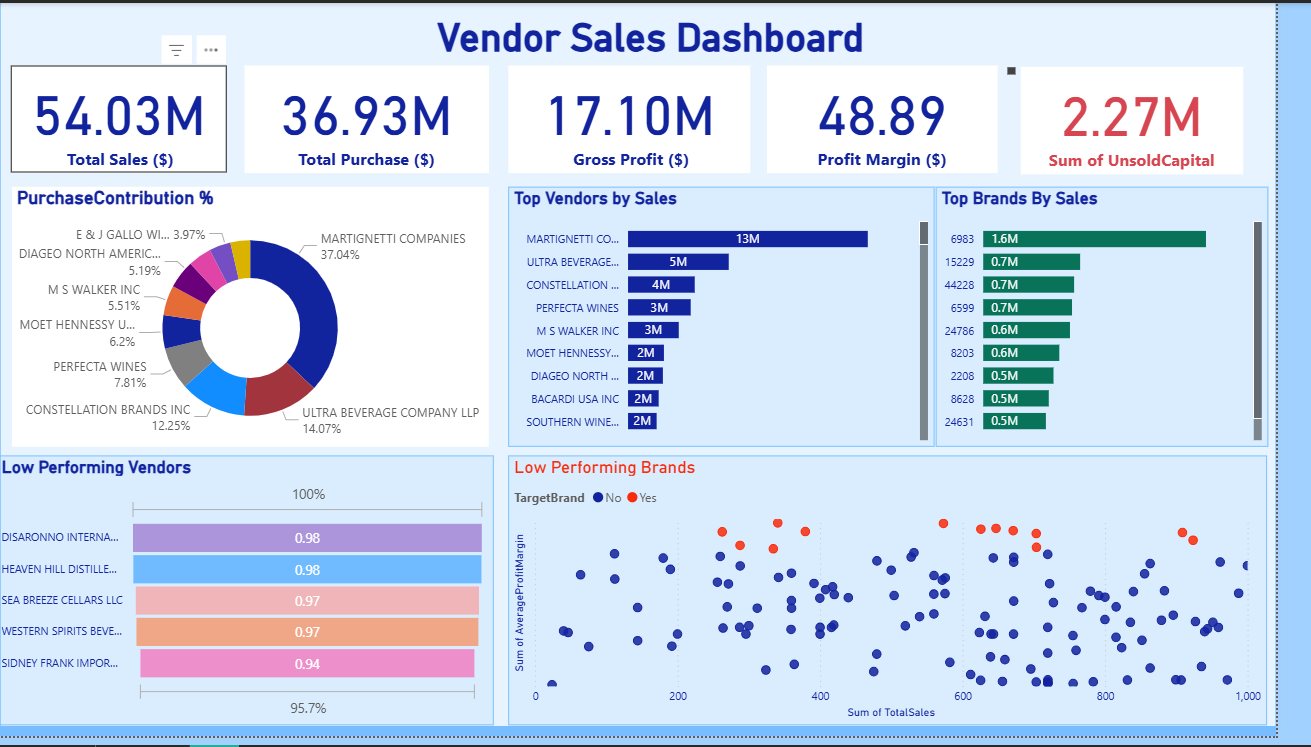

This screenshot's page, from the dashboard's own definition file:
{"tool":"powerbi","page":{"name":"Page 1","canvas":[1280,720],"ordinal":0},"visuals":[{"type":"shape","box":[28.2,0,1251.5,709.2],"z":0},{"type":"textbox","title":"Vendor Sales Dashboard","box":[451.5,11,577.7,64.5],"z":1000},{"type":"card","fields":{"Values":["Sum(vendor_sales_summary.TotalSalesDollars)"]},"box":[38.4,61.7,211.3,105.7],"z":2000},{"type":"card","fields":{"Values":["Sum(vendor_sales_summary.TotalPurchaseDollars)"]},"box":[267.6,61.7,240.1,105.7],"z":3000},{"type":"card","fields":{"Values":["Sum(vendor_sales_summary.GrossProfit)"]},"box":[526.9,61.7,237.4,105.7],"z":4000},{"type":"card","fields":{"Values":["Avg(vendor_sales_summary.ProfitMargin)"]},"box":[780.8,61.7,226.4,105.7],"z":5000},{"type":"card","fields":{"Values":["Sum(vendor_sales_summary.UnsoldCapital)"]},"box":[1029.2,63.1,218.2,105.7],"z":6000},{"type":"donutChart","title":" PurchaseContribution % ","fields":{"Category":["PurchaseContribution.VendorName"],"Y":["Sum(PurchaseContribution.PurchaseContribution%)"]},"box":[39.8,179.8,467.9,255.2],"z":7000},{"type":"barChart","title":"Top Vendors by Sales","fields":{"Category":["vendor_sales_summary.VendorName"],"Y":["Sum(vendor_sales_summary.TotalSalesDollars)"]},"box":[526.9,179.8,418.5,255.2],"z":8000},{"type":"barChart","title":"Top Brands By Sales","fields":{"Category":["vendor_sales_summary.Brand"],"Y":["Sum(vendor_sales_summary.TotalSalesDollars)"]},"box":[945.5,179.8,326.6,255.2],"z":9000},{"type":"funnel","title":"Low Performing Vendors","fields":{"Category":["LowTurnoverVendor.VendorName"],"Y":["Sum(LowTurnoverVendor.AvgStockTurnover)"]},"box":[23.3,444.6,488.5,264.8],"z":10000},{"type":"scatterChart","title":"Low Performing Brands","fields":{"Category":["BrandPerformance.Description"],"X":["Sum(BrandPerformance.TotalSales)"],"Y":["Sum(BrandPerformance.AverageProfitMargin)"],"Series":["BrandPerformance.TargetBrand"]},"box":[526.9,444.6,745.1,264.8],"z":11000}]}

Visuals, with their boxes in screenshot pixels (x1, y1, x2, y2), scaled from the page's 1280x720 canvas onto the 1311x747 screenshot:
shape: (29, 0, 1310, 736)
"Vendor Sales Dashboard" textbox: (462, 11, 1054, 78)
card - Sum(vendor_sales_summary.TotalSalesDollars): (39, 64, 256, 174)
card - Sum(vendor_sales_summary.TotalPurchaseDollars): (274, 64, 520, 174)
card - Sum(vendor_sales_summary.GrossProfit): (540, 64, 783, 174)
card - Avg(vendor_sales_summary.ProfitMargin): (800, 64, 1032, 174)
card - Sum(vendor_sales_summary.UnsoldCapital): (1054, 65, 1278, 175)
" PurchaseContribution % " donutChart: (41, 187, 520, 451)
"Top Vendors by Sales" barChart: (540, 187, 968, 451)
"Top Brands By Sales" barChart: (968, 187, 1303, 451)
"Low Performing Vendors" funnel: (24, 461, 524, 736)
"Low Performing Brands" scatterChart: (540, 461, 1303, 736)
